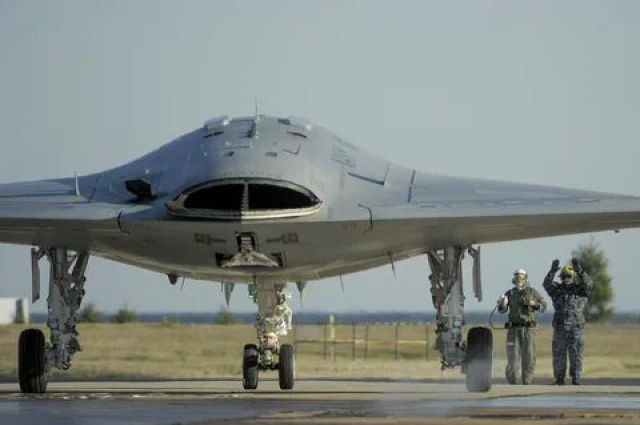military drone: (0, 95, 640, 394)
